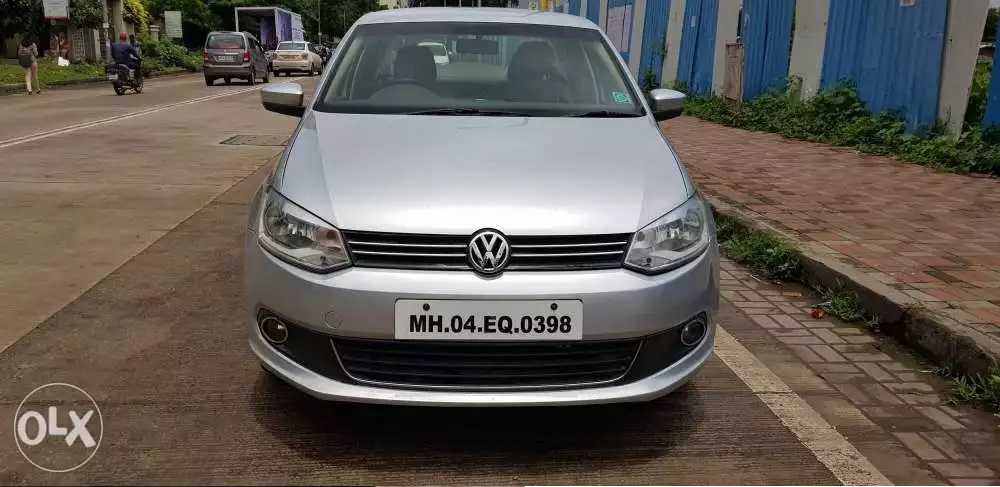licenseplate: (392, 297, 587, 343)
